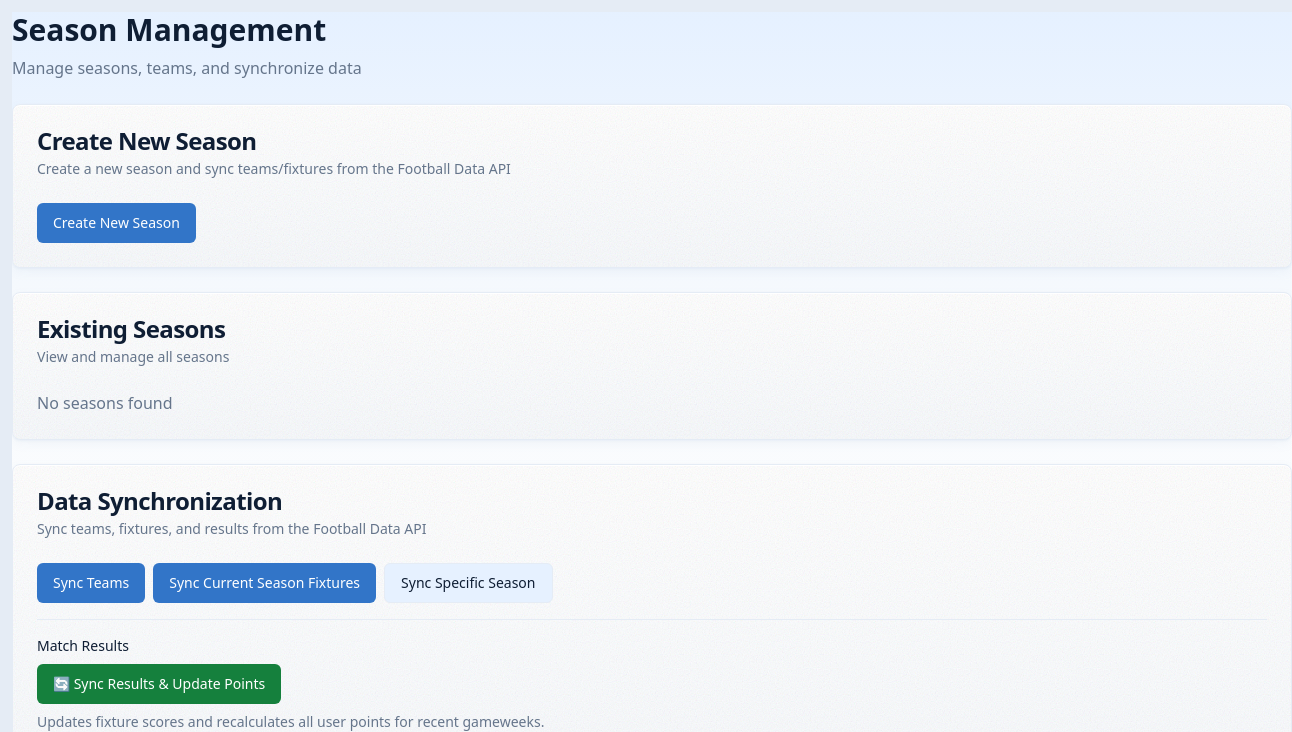
SeasonManagementPage - Create New Season › Season Creation Flow › should enable create button when season is selected
Click the button "Create New Season". click: (116, 223)
box: x1=37 y1=203 x2=196 y2=243
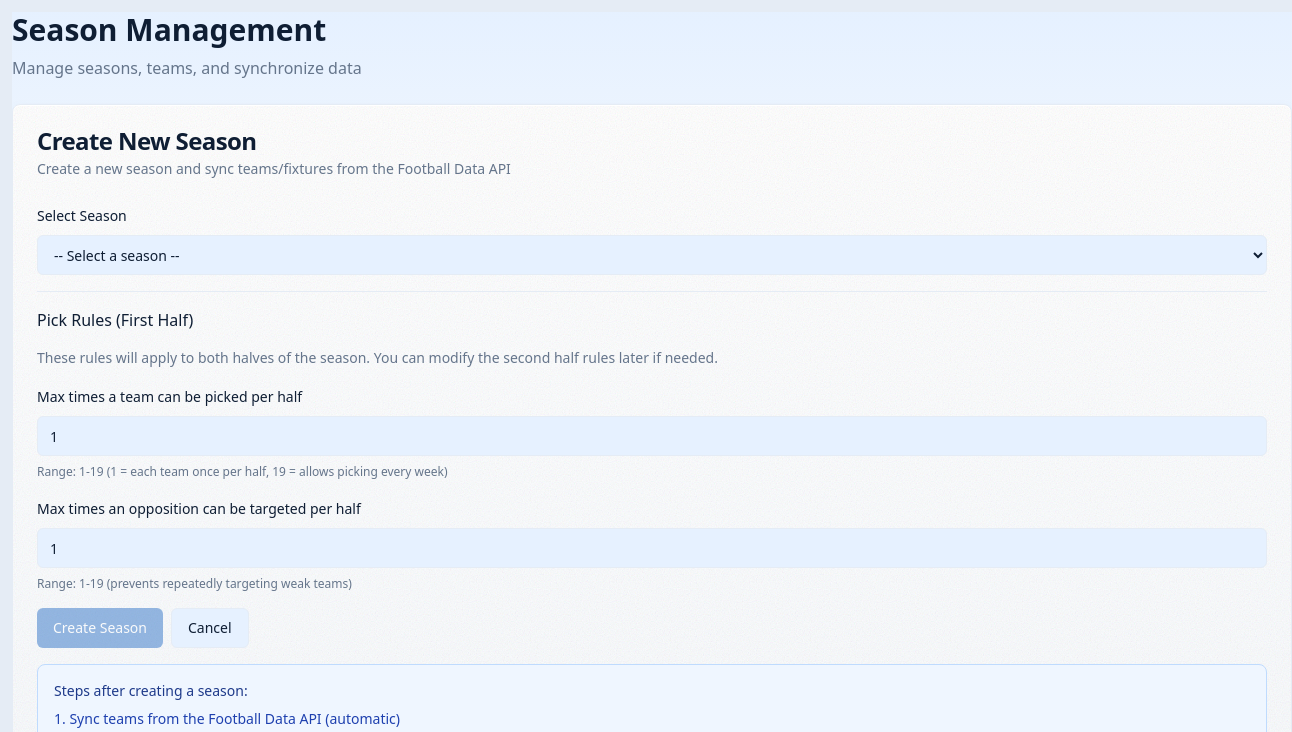
Expected: the dropdown labelled "Select Season" is shown
Select "2026-2027" in the dropdown labelled "Select Season". click: (652, 255)
box: x1=37 y1=235 x2=1267 y2=275
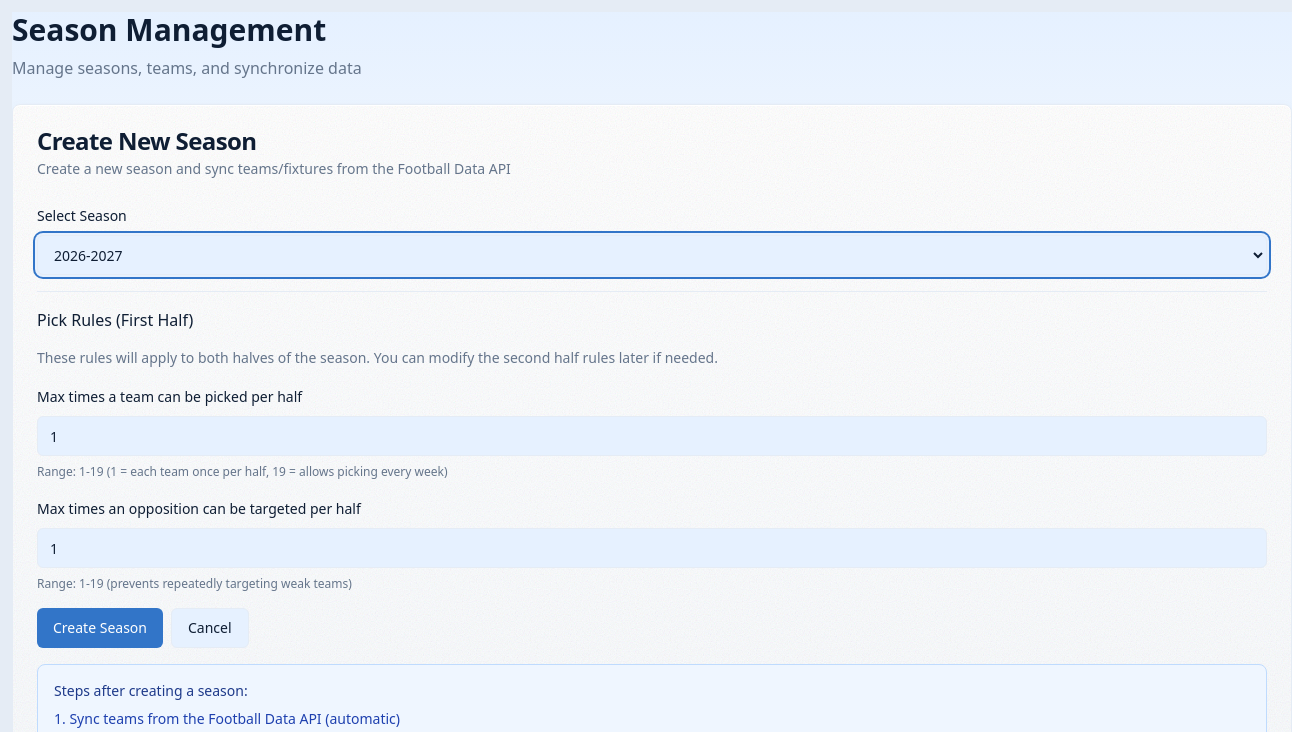
Expected: the button "Create Season" is enabled, x1=37 y1=608 x2=163 y2=648
